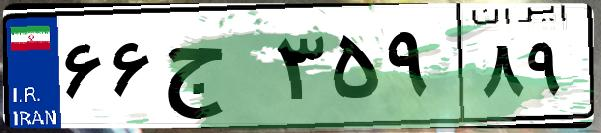3: (270, 28, 330, 110)
5: (330, 28, 385, 110)
6: (57, 26, 110, 100), (110, 28, 158, 98)
8: (475, 38, 525, 113)
9: (385, 28, 445, 110), (525, 38, 570, 115)
ج: (158, 20, 270, 120)
